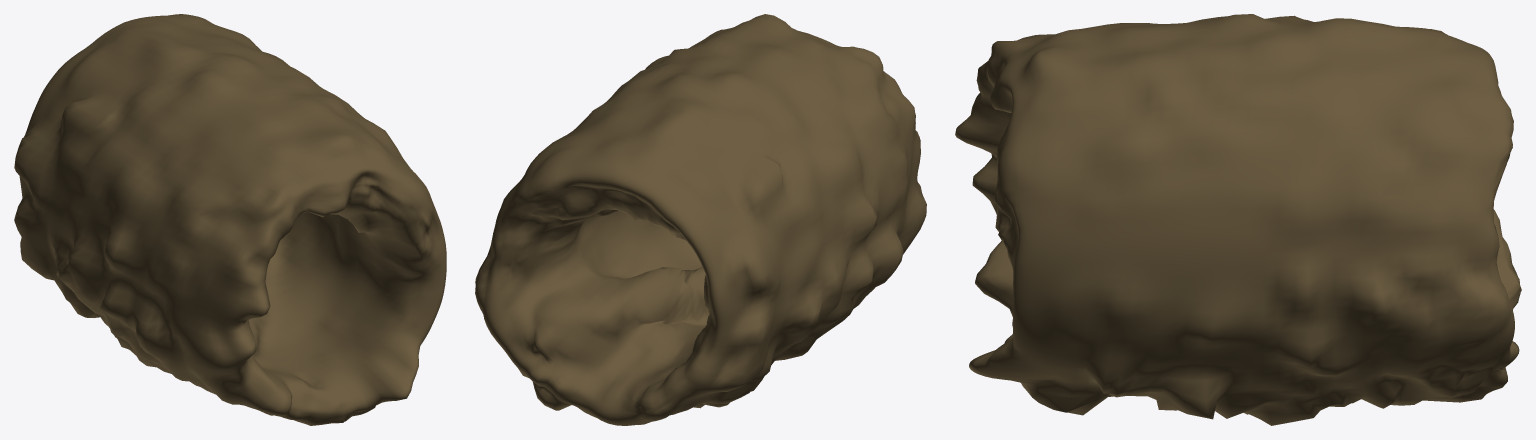
3 views of the same model, side by side, from view 1: azimuth 30°, elevation 25°; view 2: azimuth 150°, elevation 25°; view 3: azimuth 270°, elevation 25° (orthographic). The views are drawn at different scales.
Parts seen in each view (by area): view 1: pTorus7; view 2: pTorus7; view 3: pTorus7.
Part boxes in pixels (bbox=[...]): pTorus7: bbox=[14, 14, 446, 425]; pTorus7: bbox=[475, 14, 926, 425]; pTorus7: bbox=[955, 14, 1521, 425].
Bounding box in the file's own units: 319 × 323 × 437.
